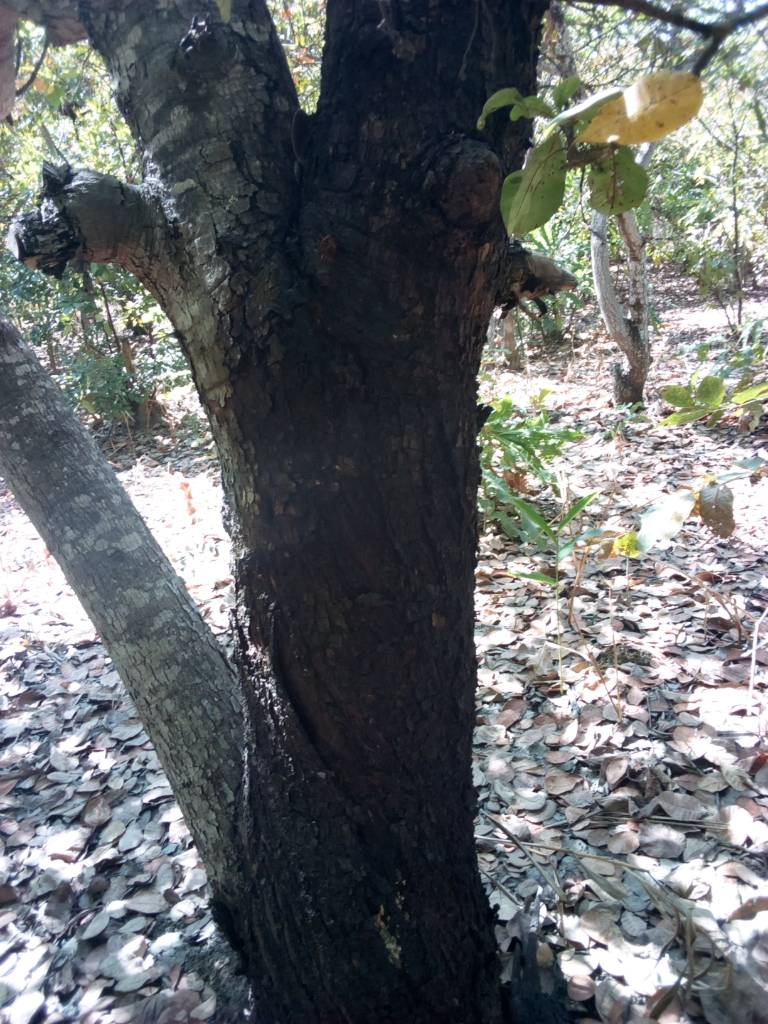Gommose: (233, 657, 472, 1024)
